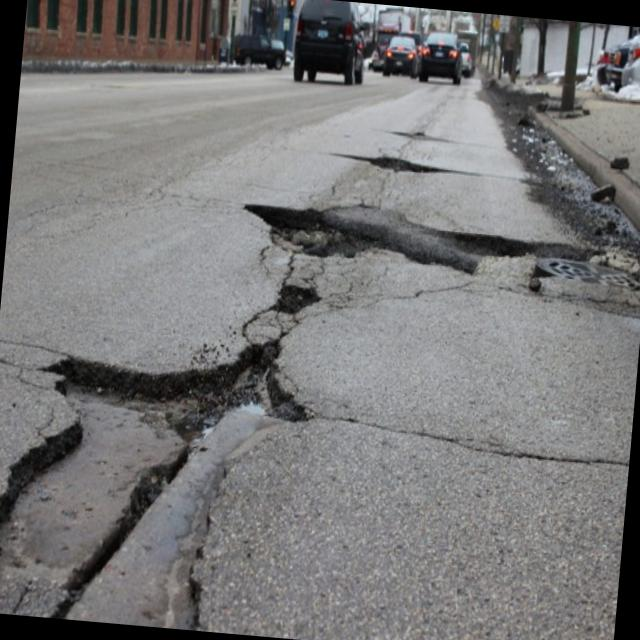Potholes: (0, 311, 324, 639), (239, 169, 640, 338), (339, 134, 472, 203), (382, 102, 457, 154)
